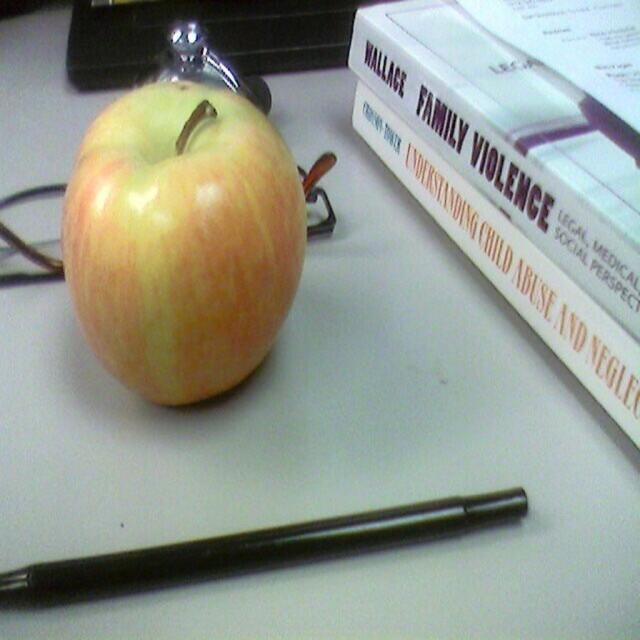Healty Apple: (59, 76, 307, 405)
